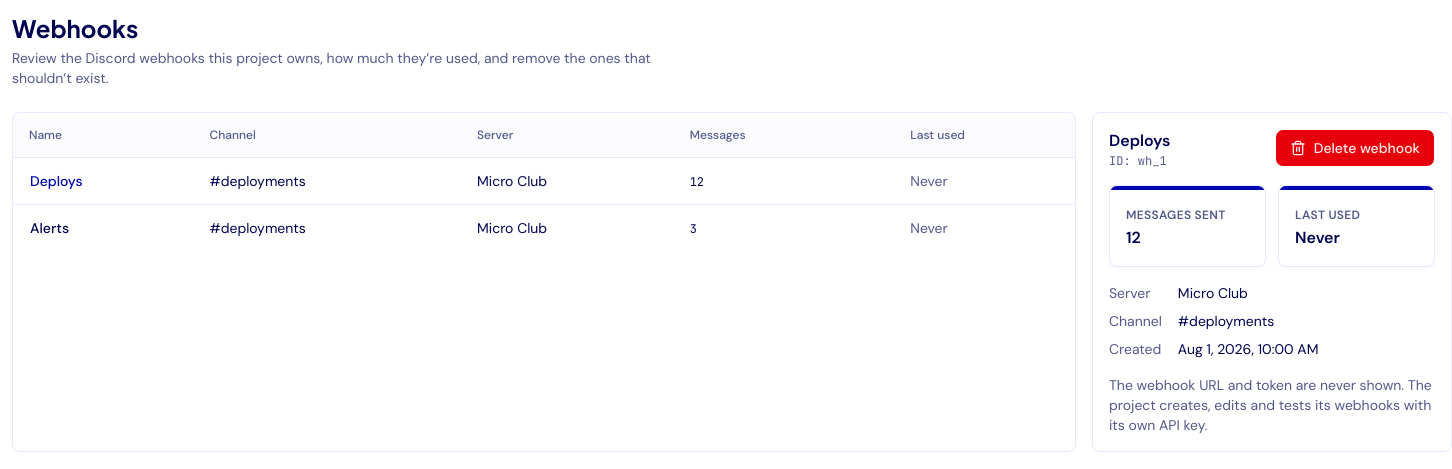
Test: Webhooks page › shows the details of the webhook picked in the table
Step 1. Click the button "Alerts" → (50,228), box [29,216,70,238]
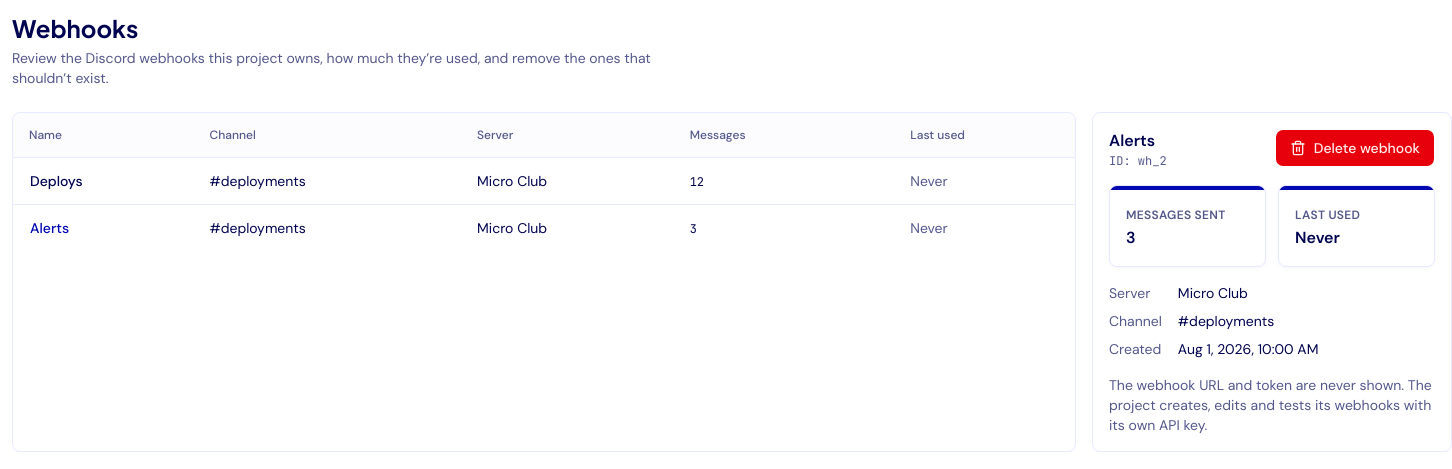
Now the heading "Alerts" is shown, box [1109,130,1155,151]
